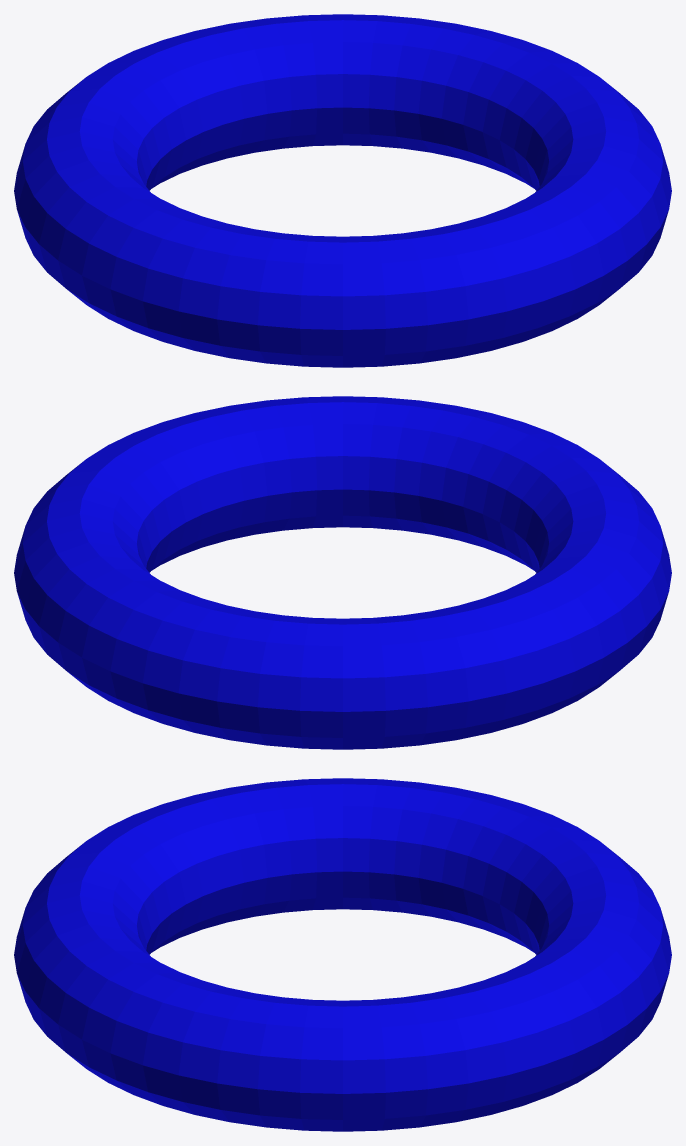
File: blob-load-balancer.glb
3 views of the same model, one above another, from view 1: azimuth 30°, elevation 25°; view 2: azimuth 150°, elevation 25°; view 3: azimuth 270°, elevation 25° (orthographic).
Parts seen in each view (by area): view 1: Torus; view 2: Torus; view 3: Torus.
Part boxes in pixels (box(x1,y1,x2,y2)): Torus: box(14, 14, 671, 367); Torus: box(14, 396, 671, 749); Torus: box(14, 778, 671, 1131).
Bounding box in the file's own units: 2.5 × 0.5 × 2.5.
